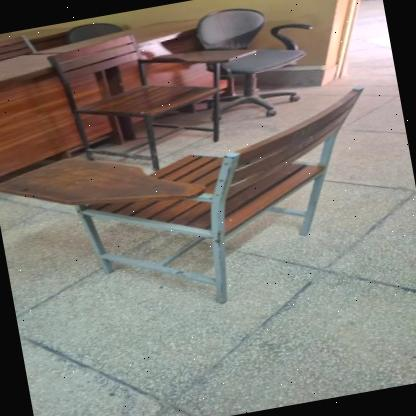chair: (0, 72, 397, 340), (40, 14, 253, 180), (190, 0, 332, 128)
